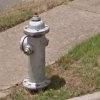Hydrant: (16, 8, 67, 94)
